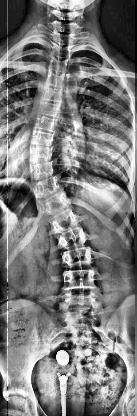Vertebrae: (44, 206, 82, 236), (36, 192, 72, 216), (54, 226, 90, 250), (59, 270, 98, 292), (59, 292, 101, 312), (59, 246, 95, 268), (30, 176, 60, 200), (27, 160, 55, 180), (29, 130, 57, 147), (36, 100, 62, 118), (33, 114, 59, 132), (27, 146, 53, 164), (47, 56, 70, 74), (42, 86, 66, 102), (44, 72, 66, 89), (54, 31, 75, 47), (50, 46, 74, 60)
